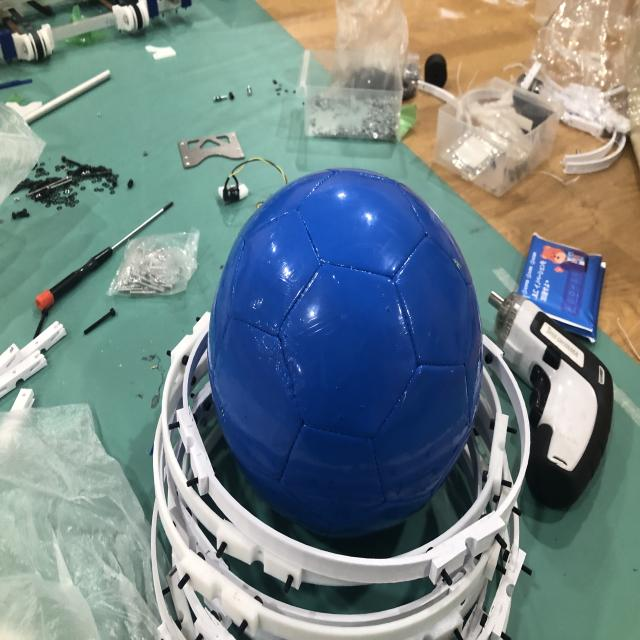blue_ball: (214, 165, 473, 546)
